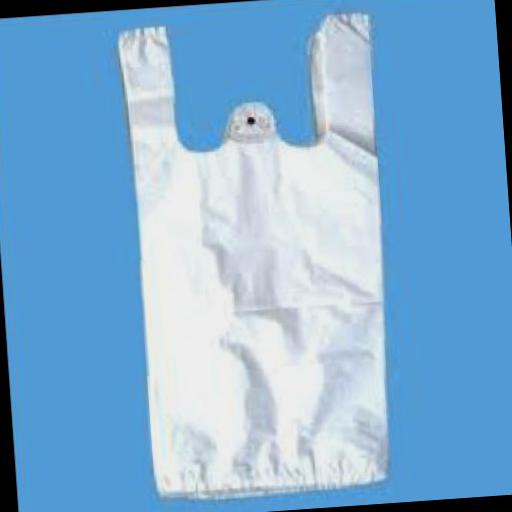plastic: (116, 8, 404, 502)
